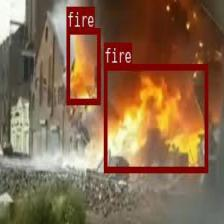fire: (103, 63, 207, 171), (66, 27, 99, 104)
